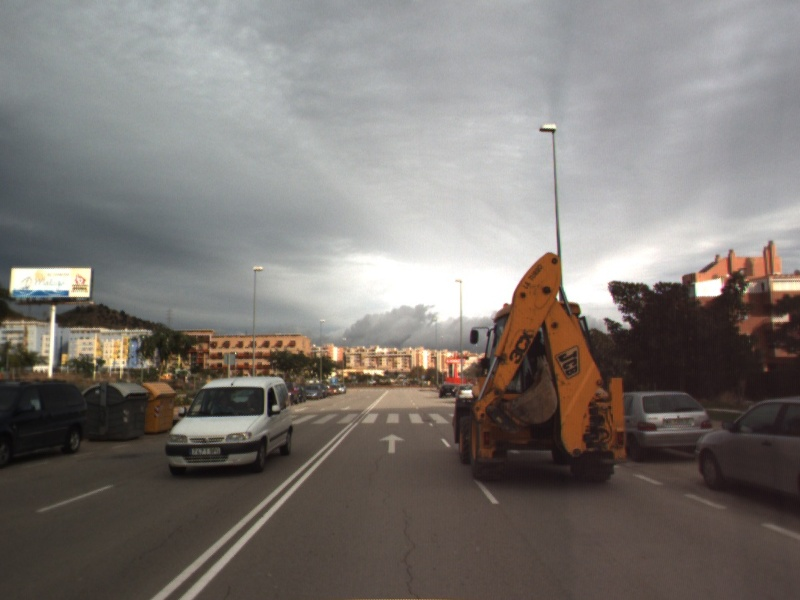STRAIGHT: (377, 431, 407, 455)
